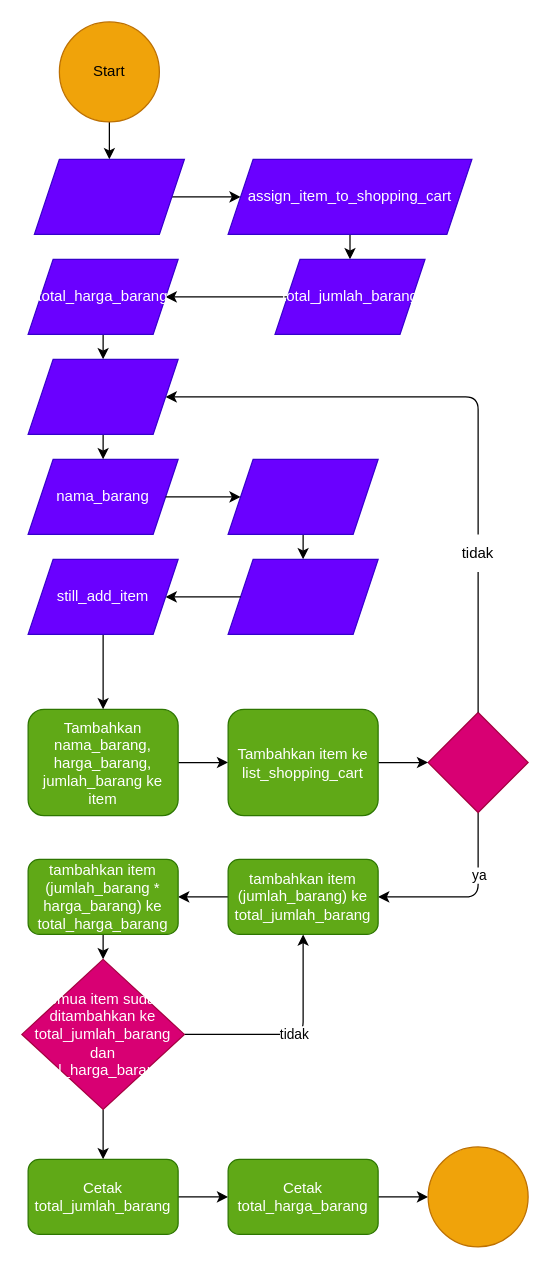
The diagram is 550 pixels wide and 1269 high, and some of its shapes have lost their labels. The box of each missing label's shape, as (x1, y1, x2, y2) in pixels:
End: (427, 1146, 528, 1247)
harga_barang: (227, 458, 378, 534)
item: (27, 358, 178, 434)
jumlah_barang: (227, 558, 378, 634)
list_shopping_list: (33, 158, 184, 234)
still_add_item = FALSE ?: (427, 711, 528, 812)
